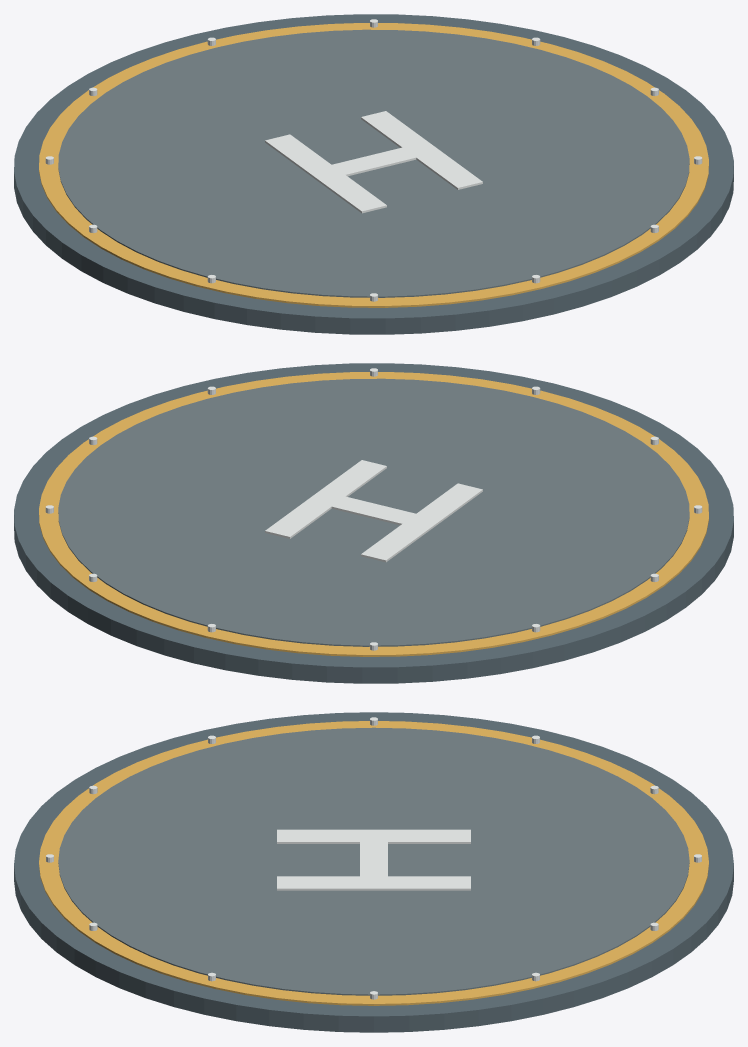
The model's file is helipad.glb.
3 renders of one model, top to bottom at view 1: azimuth 30°, elevation 25°; view 2: azimuth 150°, elevation 25°; view 3: azimuth 270°, elevation 25°, orthographic.
Parts seen in each view (by area): view 1: Landing surface, Structural landing deck, Safety perimeter gold, H right bar, H left bar, H crossbar; view 2: Landing surface, Structural landing deck, Safety perimeter gold, H right bar, H left bar, H crossbar; view 3: Landing surface, Structural landing deck, Safety perimeter gold, H left bar, H right bar, H crossbar.
Part boxes in pixels (x1=…): Landing surface: x1=58, y1=29, x2=689, y2=297; Structural landing deck: x1=14, y1=14, x2=733, y2=334; Safety perimeter gold: x1=39, y1=23, x2=708, y2=307; H right bar: x1=361, y1=111, x2=482, y2=189; H left bar: x1=265, y1=134, x2=386, y2=213; H crossbar: x1=315, y1=147, x2=416, y2=176; Landing surface: x1=58, y1=378, x2=689, y2=646; Structural landing deck: x1=14, y1=363, x2=733, y2=683; Safety perimeter gold: x1=39, y1=372, x2=708, y2=656; H right bar: x1=265, y1=460, x2=386, y2=538; H left bar: x1=361, y1=483, x2=482, y2=562; H crossbar: x1=331, y1=496, x2=432, y2=525; Landing surface: x1=58, y1=727, x2=689, y2=995; Structural landing deck: x1=14, y1=712, x2=733, y2=1032; Safety perimeter gold: x1=39, y1=721, x2=708, y2=1005; H left bar: x1=277, y1=829, x2=470, y2=843; H right bar: x1=277, y1=876, x2=470, y2=890; H crossbar: x1=360, y1=842, x2=387, y2=884.
Size of the model in its own units: 26 by 0.985 by 26.
